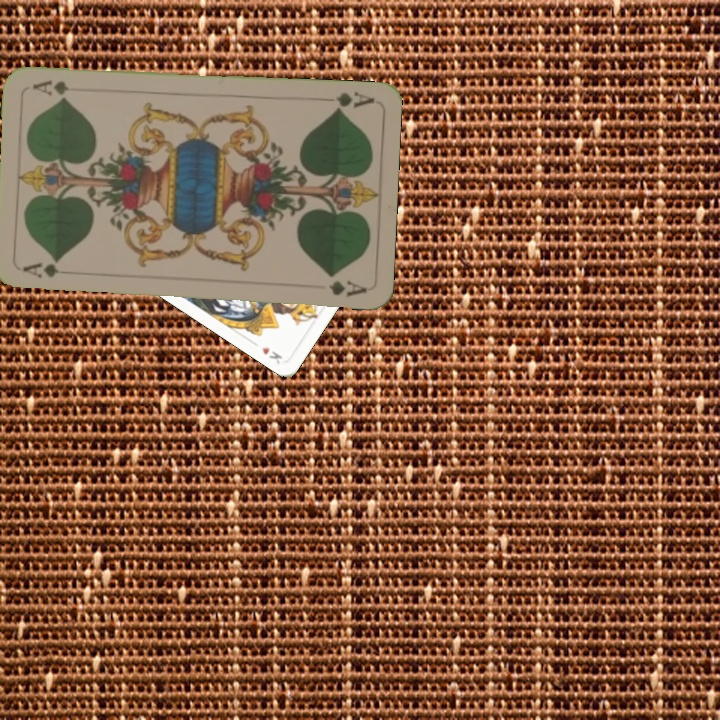GA: (19, 259, 78, 280), (330, 88, 376, 114)
